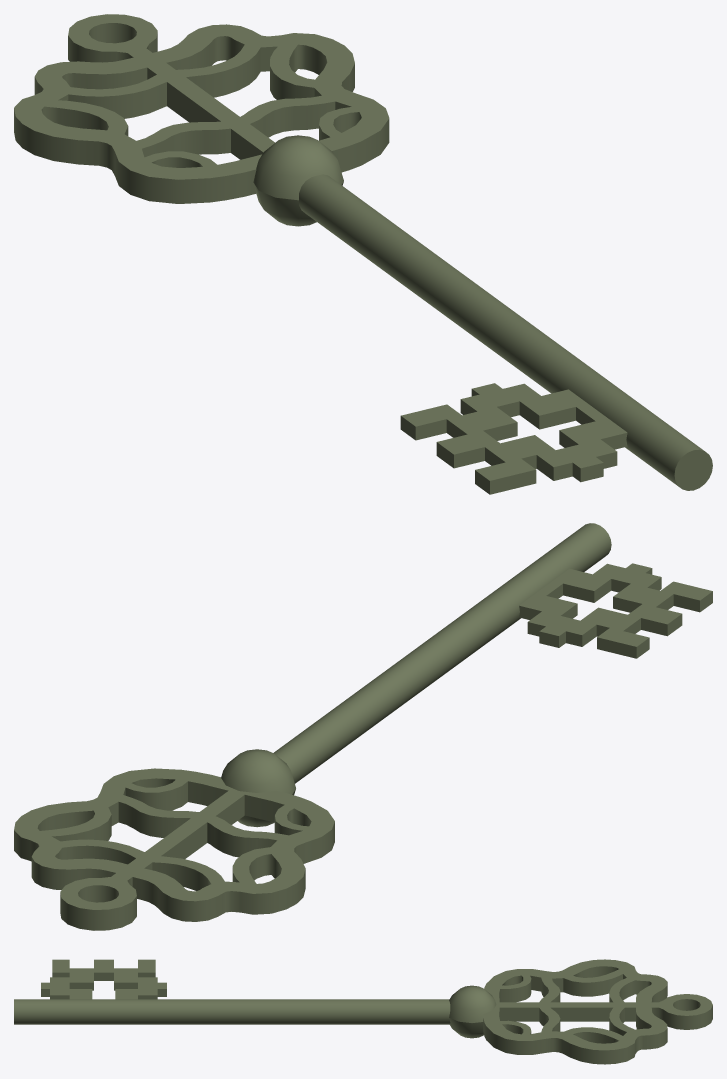
Rendered from Armored_chest_Key.FBX.
3 renders of one model, top to bottom at view 1: azimuth 30°, elevation 25°; view 2: azimuth 150°, elevation 25°; view 3: azimuth 270°, elevation 25°, orthographic. The views are drawn at different scales.
Visible parts, largest first — view 1: Armored_chest_Key; view 2: Armored_chest_Key; view 3: Armored_chest_Key.
Part boxes in pixels (x1,y1,x2,y2): Armored_chest_Key: (14,14,712,494); Armored_chest_Key: (14,523,712,930); Armored_chest_Key: (14,959,712,1064).
Bounding box in the file's own units: 22.36 × 70.41 × 5.34.
